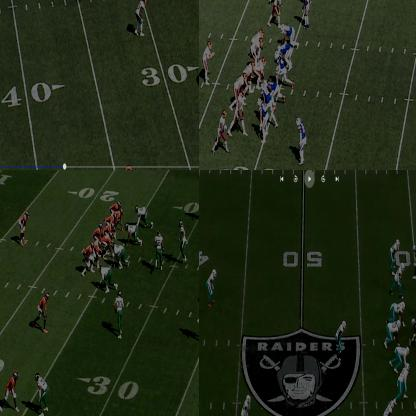CENTER: (102, 232, 115, 257), (257, 58, 267, 88), (410, 318, 415, 346)
DB: (36, 372, 50, 415), (296, 116, 306, 163), (114, 292, 124, 339), (135, 0, 146, 34), (206, 268, 216, 305), (300, 0, 312, 30), (240, 392, 252, 415), (382, 399, 395, 415)
LB: (335, 318, 346, 361), (397, 361, 410, 396), (258, 97, 268, 142), (154, 230, 164, 267), (277, 53, 288, 86), (178, 222, 187, 255), (393, 264, 403, 292), (391, 238, 402, 263)
QB: (203, 41, 214, 84), (94, 221, 102, 242)
SKILL: (234, 92, 247, 137), (3, 370, 19, 406), (214, 108, 228, 149), (37, 294, 49, 332), (19, 209, 31, 246), (269, 0, 284, 27), (114, 210, 126, 233), (112, 202, 122, 211), (412, 243, 415, 270)
